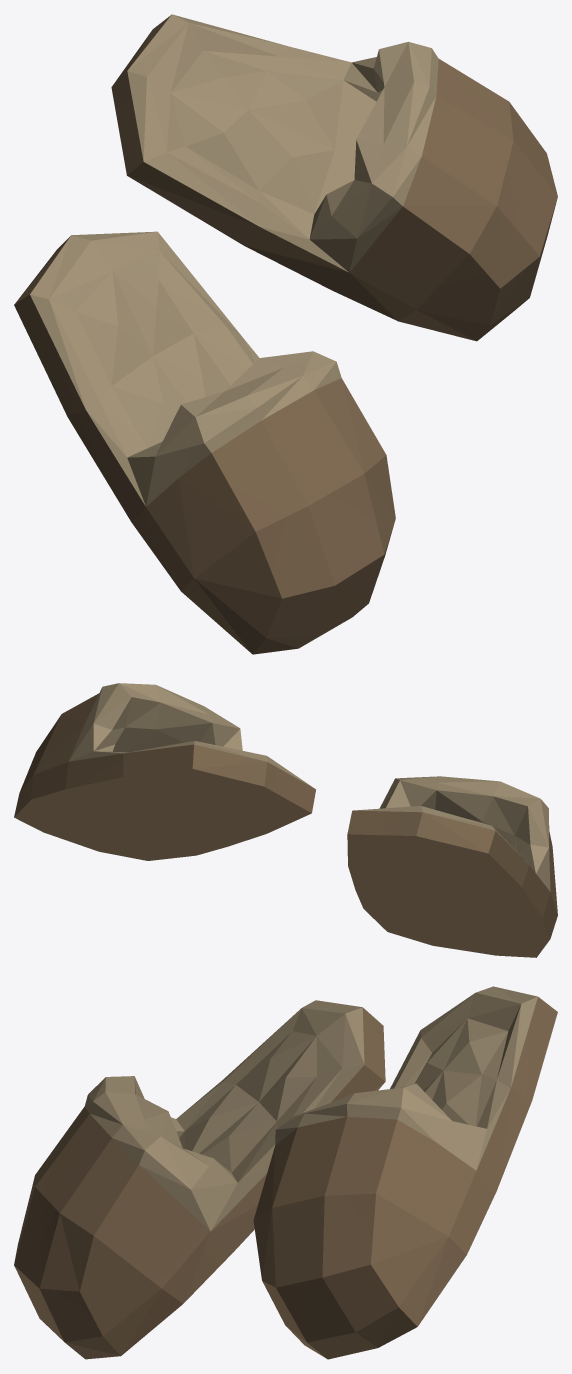
File: bootsSlippersDisplay.fbx
3 renders of one model, top to bottom at view 1: azimuth 30°, elevation 25°; view 2: azimuth 150°, elevation 25°; view 3: azimuth 270°, elevation 25°, orthographic. The views are drawn at different scales.
Visible parts, largest first — view 1: bootsSlippersDisplay; view 2: bootsSlippersDisplay; view 3: bootsSlippersDisplay.
Part boxes in pixels (x1,y1,x2,y2): bootsSlippersDisplay: (14,14,557,654); bootsSlippersDisplay: (14,683,557,957); bootsSlippersDisplay: (14,986,557,1359).
Size of the model in its own units: 1.5 by 1.08 by 1.35.
